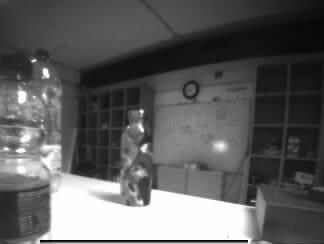Bottle: (1, 57, 58, 244), (33, 54, 62, 192), (119, 107, 151, 207)
